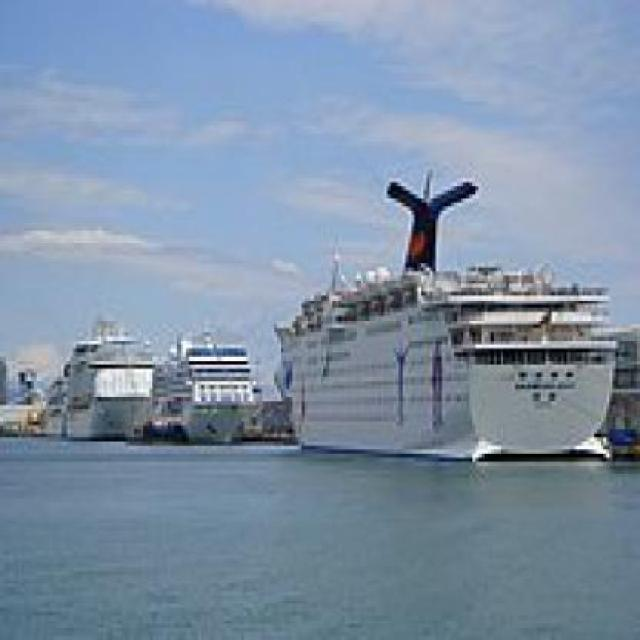cruise: (247, 163, 638, 480)
